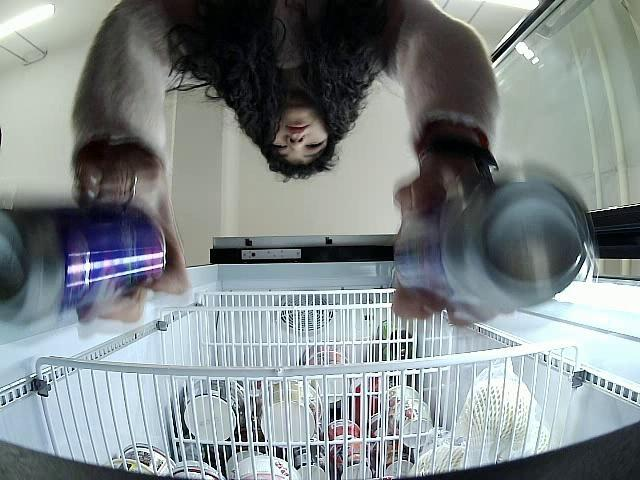14_welchsGrape: (392, 176, 594, 326), (0, 200, 169, 325)
